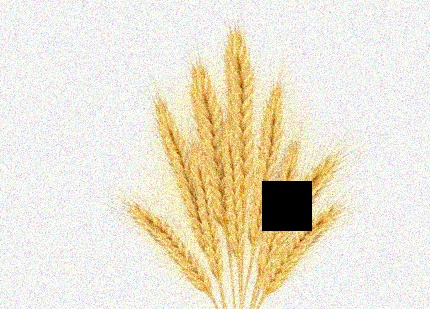wheat: (151, 87, 222, 289), (265, 137, 356, 285), (104, 187, 213, 301), (186, 45, 236, 265), (213, 25, 254, 267), (243, 72, 285, 259), (257, 130, 301, 269)
